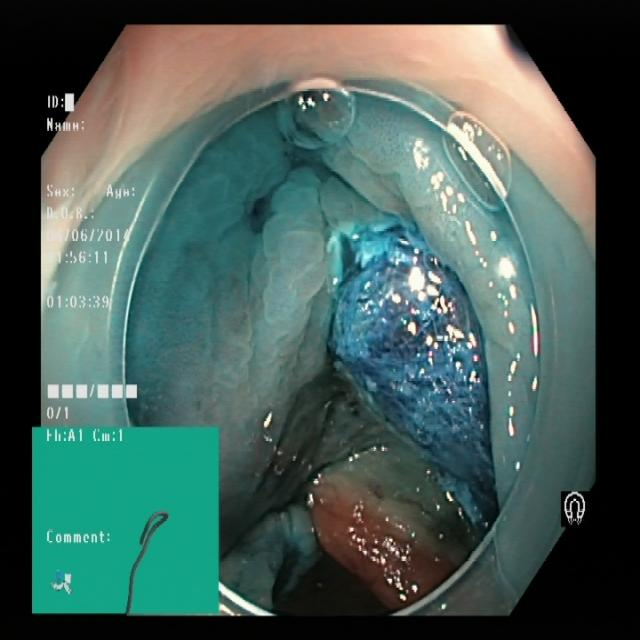dyed-resection-margins: (321, 204, 513, 528)
